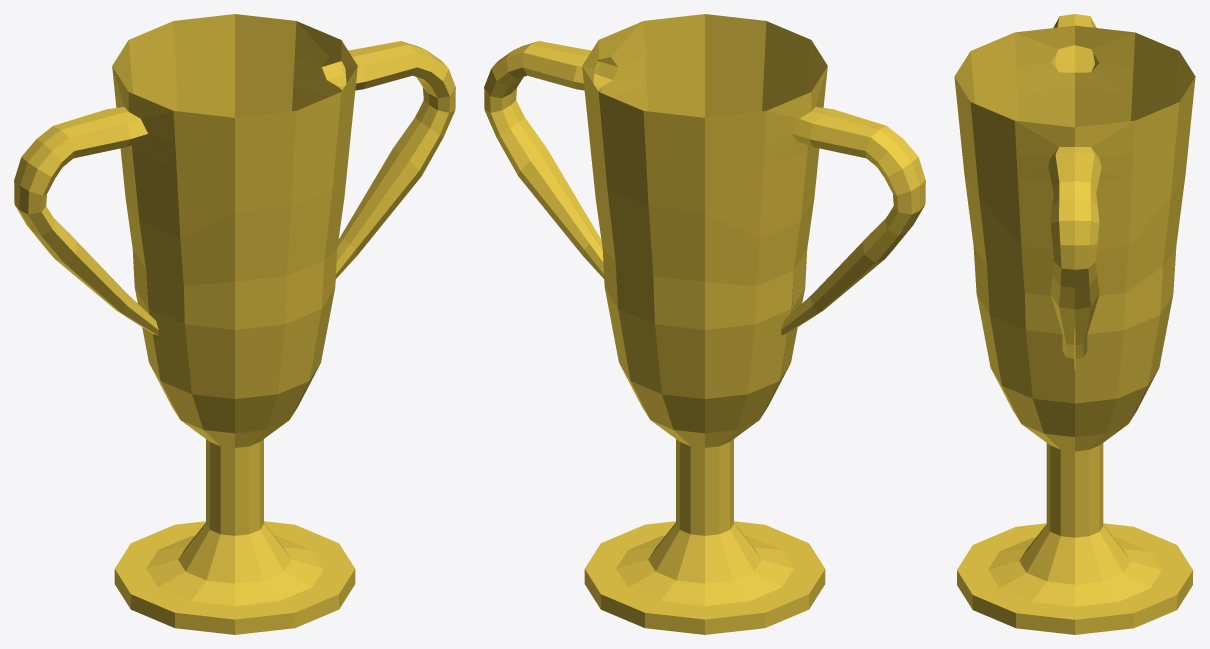
File: littlecup.glb
3 renders of one model, left to right at view 1: azimuth 30°, elevation 25°; view 2: azimuth 150°, elevation 25°; view 3: azimuth 270°, elevation 25°, orthographic.
Parts seen in each view (by area): view 1: Cup; view 2: Cup; view 3: Cup.
Boxes of the visible parts, x1,y1,x2,y2 form: Cup: (14,14,455,634); Cup: (484,14,925,634); Cup: (954,14,1195,634).
Size of the model in its own units: 2.07 by 2.38 by 1.02.
